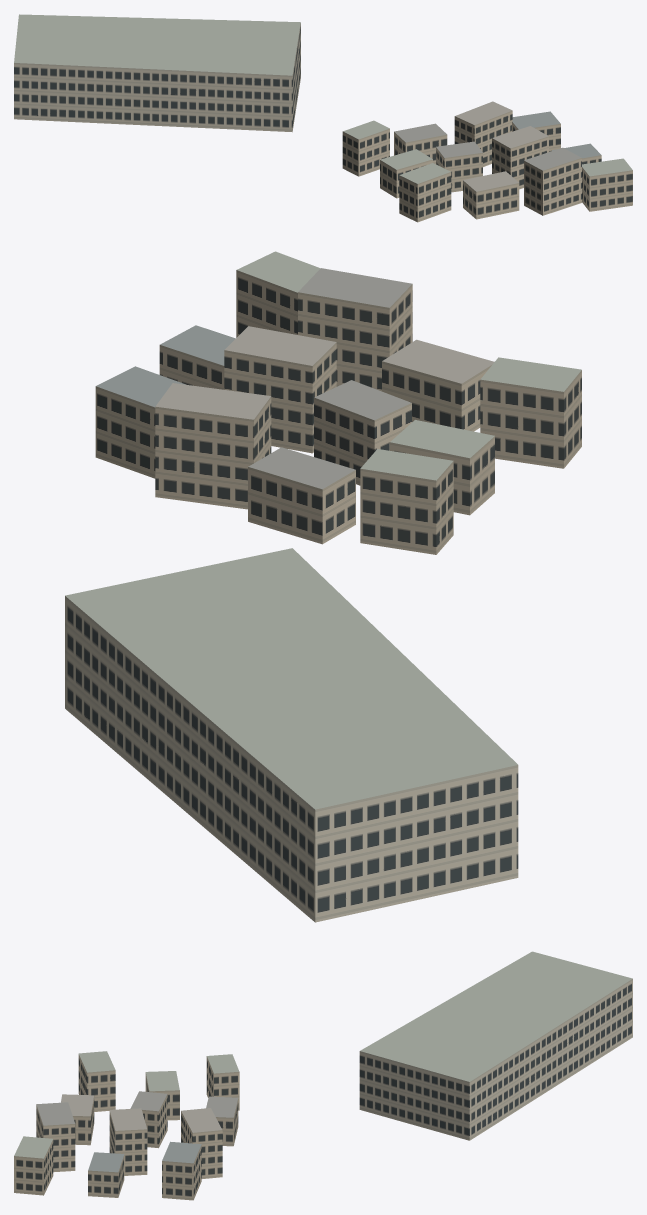
3 views of the same model, one above another, from view 1: azimuth 30°, elevation 25°; view 2: azimuth 150°, elevation 25°; view 3: azimuth 270°, elevation 25° (orthographic). The views are drawn at different scales.
Parts seen in each view (by area): view 1: ctx-roof-1, ctx-school, ctx-house, ctx-roof-3, ctx-roof-0, ctx-roof-2; view 2: ctx-roof-1, ctx-house, ctx-school, ctx-roof-3, ctx-roof-0, ctx-roof-2; view 3: ctx-roof-1, ctx-school, ctx-house, ctx-roof-3, ctx-roof-0, ctx-roof-2.
Part boxes in pixels (x1,y1,x2,y2): ctx-roof-1: [14, 14, 632, 183]; ctx-school: [14, 22, 300, 132]; ctx-house: [342, 110, 632, 222]; ctx-roof-3: [455, 101, 548, 191]; ctx-roof-0: [394, 123, 581, 170]; ctx-roof-2: [512, 111, 600, 158]; ctx-roof-1: [65, 251, 581, 809]; ctx-house: [95, 270, 581, 554]; ctx-school: [65, 596, 518, 922]; ctx-roof-3: [155, 326, 494, 419]; ctx-roof-0: [248, 268, 412, 489]; ctx-roof-2: [96, 325, 235, 407]; ctx-roof-1: [14, 951, 632, 1158]; ctx-school: [359, 979, 632, 1140]; ctx-house: [14, 1054, 239, 1200]; ctx-roof-3: [61, 1094, 222, 1132]; ctx-roof-0: [36, 1091, 238, 1125]; ctx-roof-2: [88, 1141, 201, 1172].
Size of the model in its own units: 140 by 20.01 by 191.
Materials: 6 (2 with a texture image).
